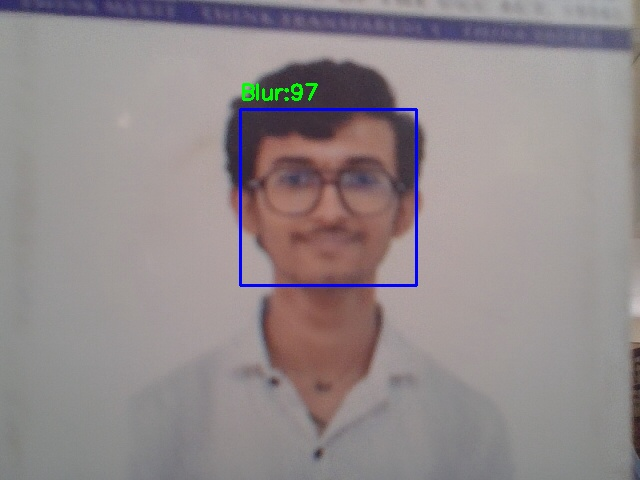fake: (240, 109, 416, 285)
